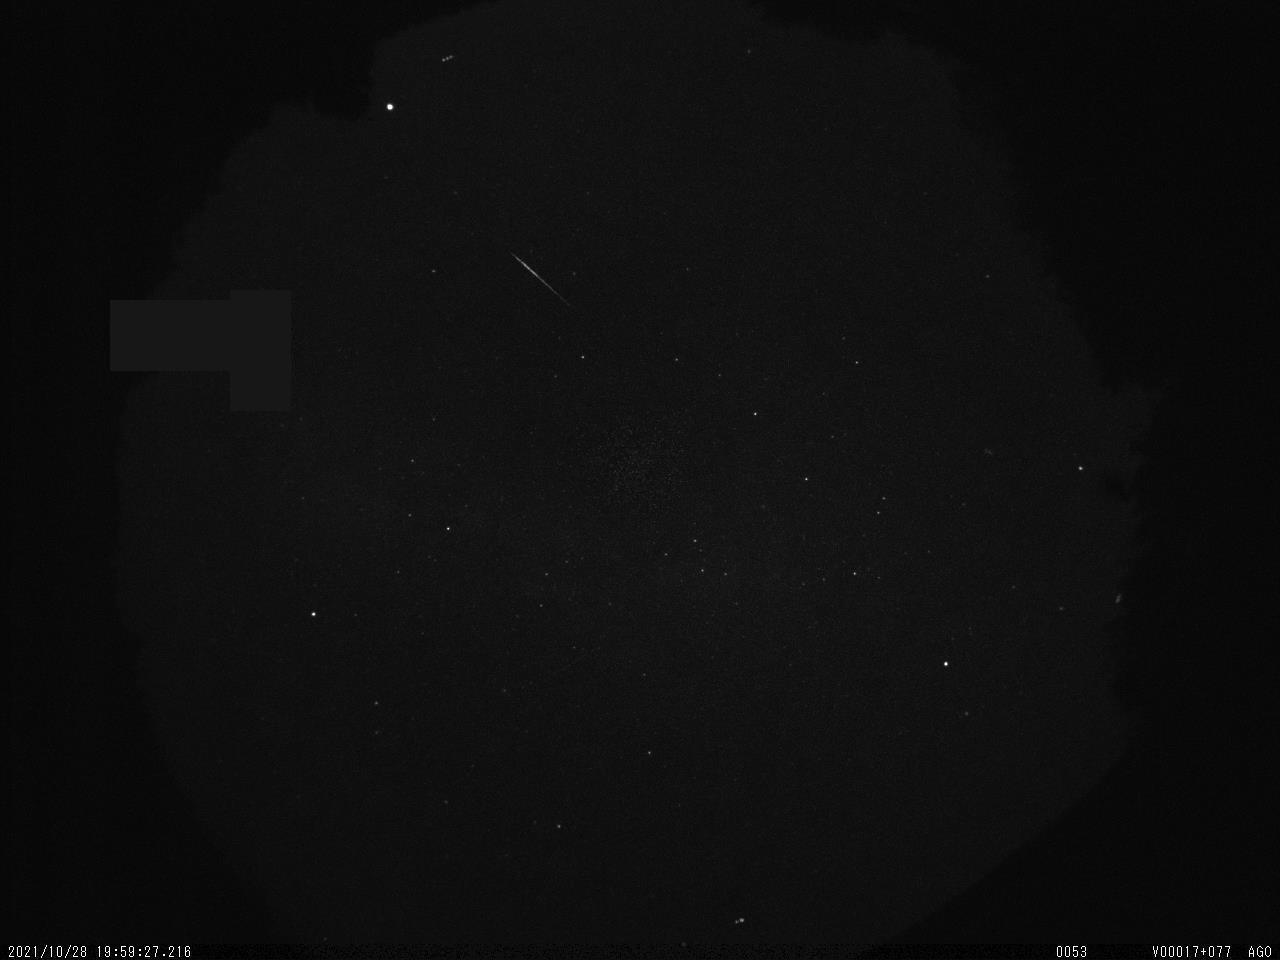Meteor: (507, 249, 570, 309)
